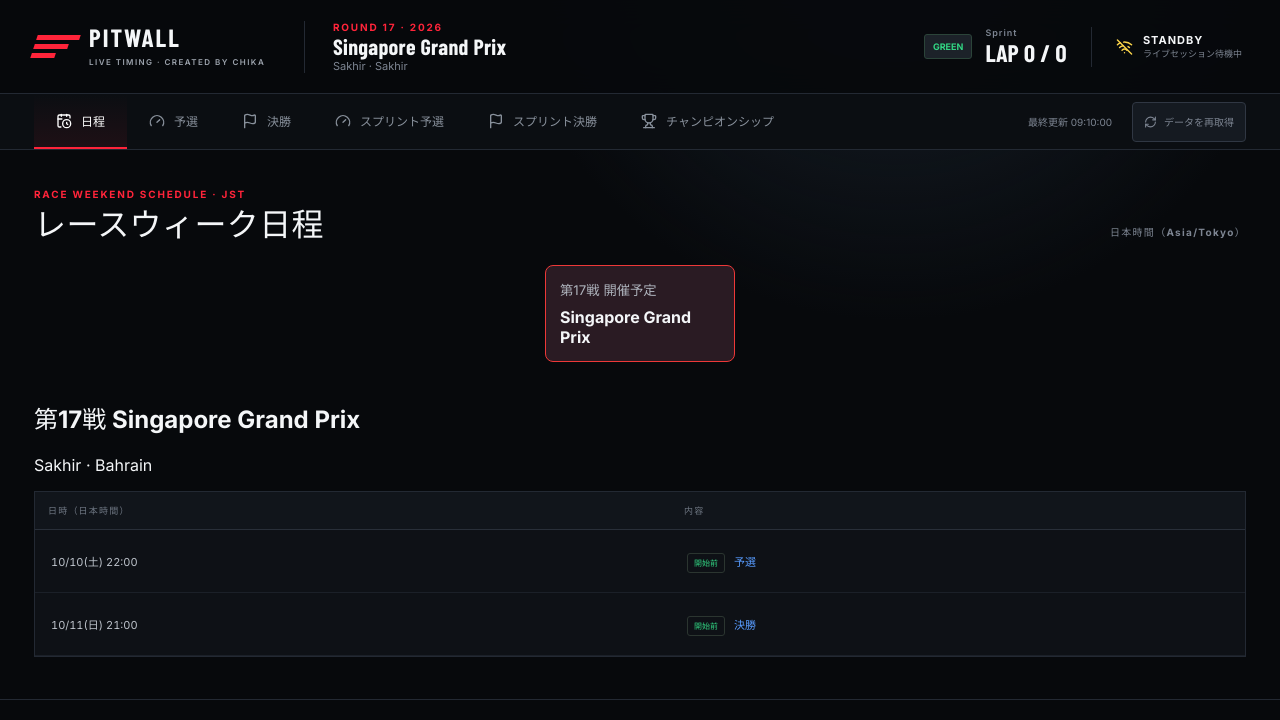
Test: starts on the schedule even during a sprint and highlights overtakes after selecting sprint timing
This screenshot has width=1280, height=720.
Expected: the heading "レースウィーク日程" is shown, [34,207,324,239]
Expected: the button "日程" is shown, [34,94,127,149]
Click the button "スプリント決勝".
click(543, 122)  # box [466,94,619,149]
Wait 350 ms
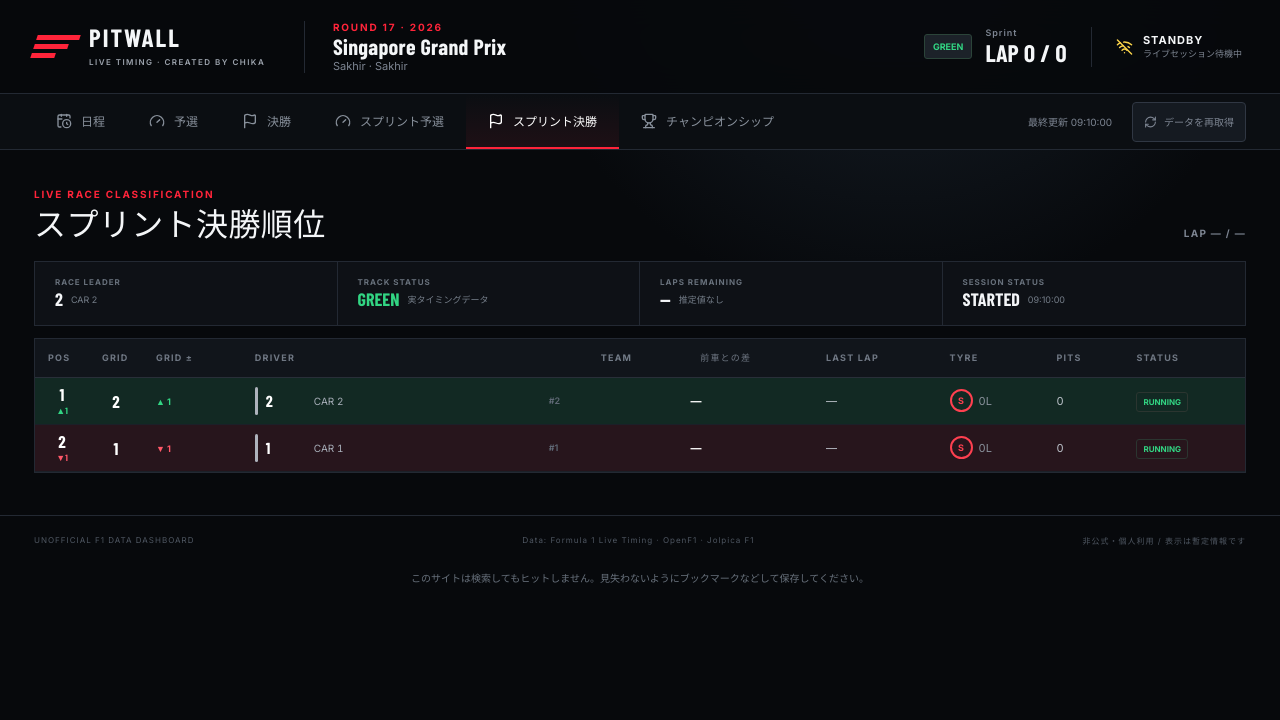
Now the heading "スプリント決勝順位" is shown, box [34,207,326,239]
Now the cell "1" is shown, box [89,424,143,471]
